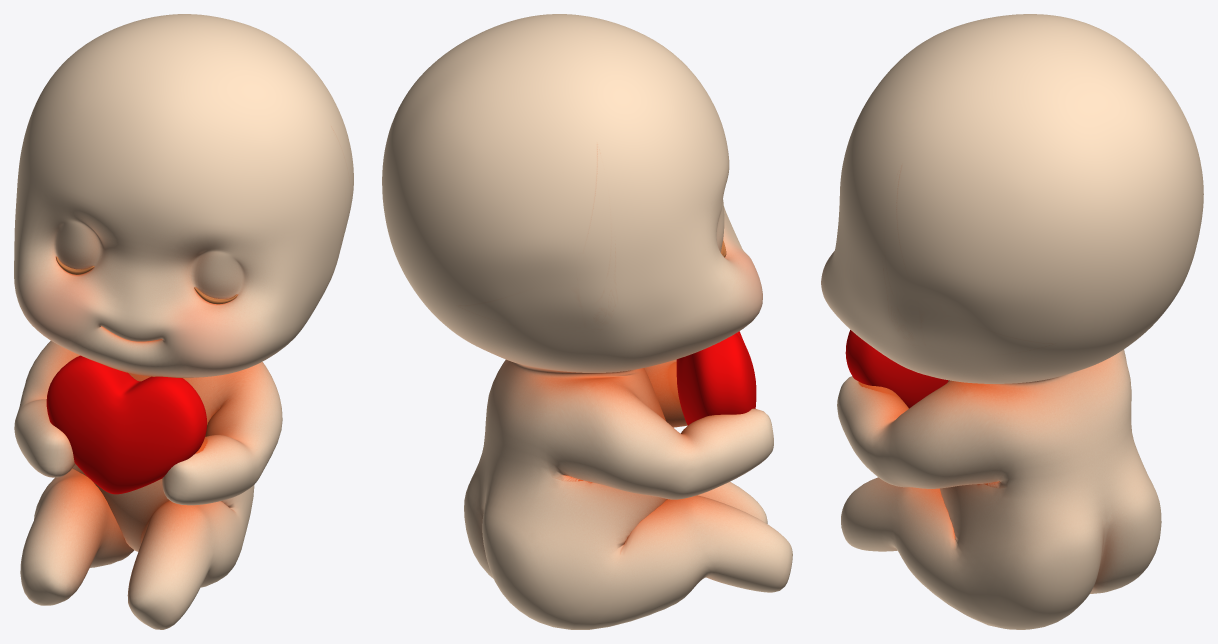
The picture shows the model from 3 angles, left to right: view 1: azimuth 30°, elevation 25°; view 2: azimuth 150°, elevation 25°; view 3: azimuth 270°, elevation 25°; orthographic projection. The views are drawn at different scales.
Parts seen in each view (by area): view 1: Roundcube.001, Cube; view 2: Roundcube.001, Cube; view 3: Roundcube.001, Cube.
Part boxes in pixels (box(x1,y1,x2,y2)): Roundcube.001: box(14, 14, 353, 629); Cube: box(46, 355, 206, 494); Roundcube.001: box(382, 14, 792, 629); Cube: box(676, 331, 756, 425); Roundcube.001: box(821, 14, 1203, 629); Cube: box(845, 330, 948, 408).
Size of the model in its own units: 1.59 by 2.43 by 1.45.
1 material, 1 textured.
